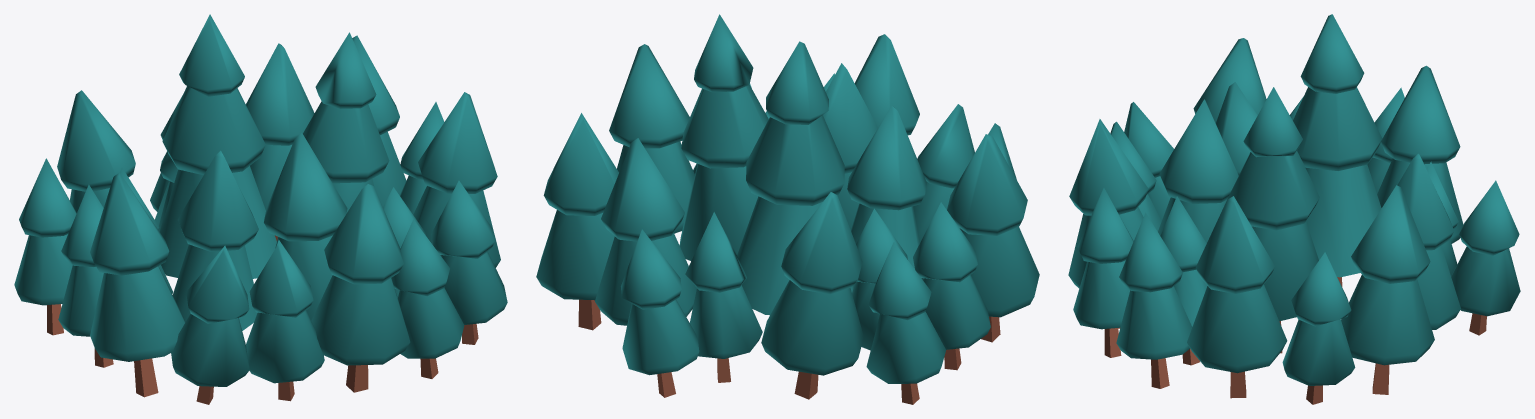
The model's file is forest.glb.
3 renders of one model, left to right at view 1: azimuth 30°, elevation 25°; view 2: azimuth 150°, elevation 25°; view 3: azimuth 270°, elevation 25°, orthographic. The views are drawn at different scales.
Parts seen in each view (by area): view 1: forest; view 2: forest; view 3: forest.
Boxes of the visible parts, x1=… form: forest: x1=14, y1=14, x2=507, y2=404; forest: x1=536, y1=14, x2=1039, y2=404; forest: x1=1068, y1=14, x2=1520, y2=404.
Size of the model in its own units: 7.72 by 5.44 by 7.58.
